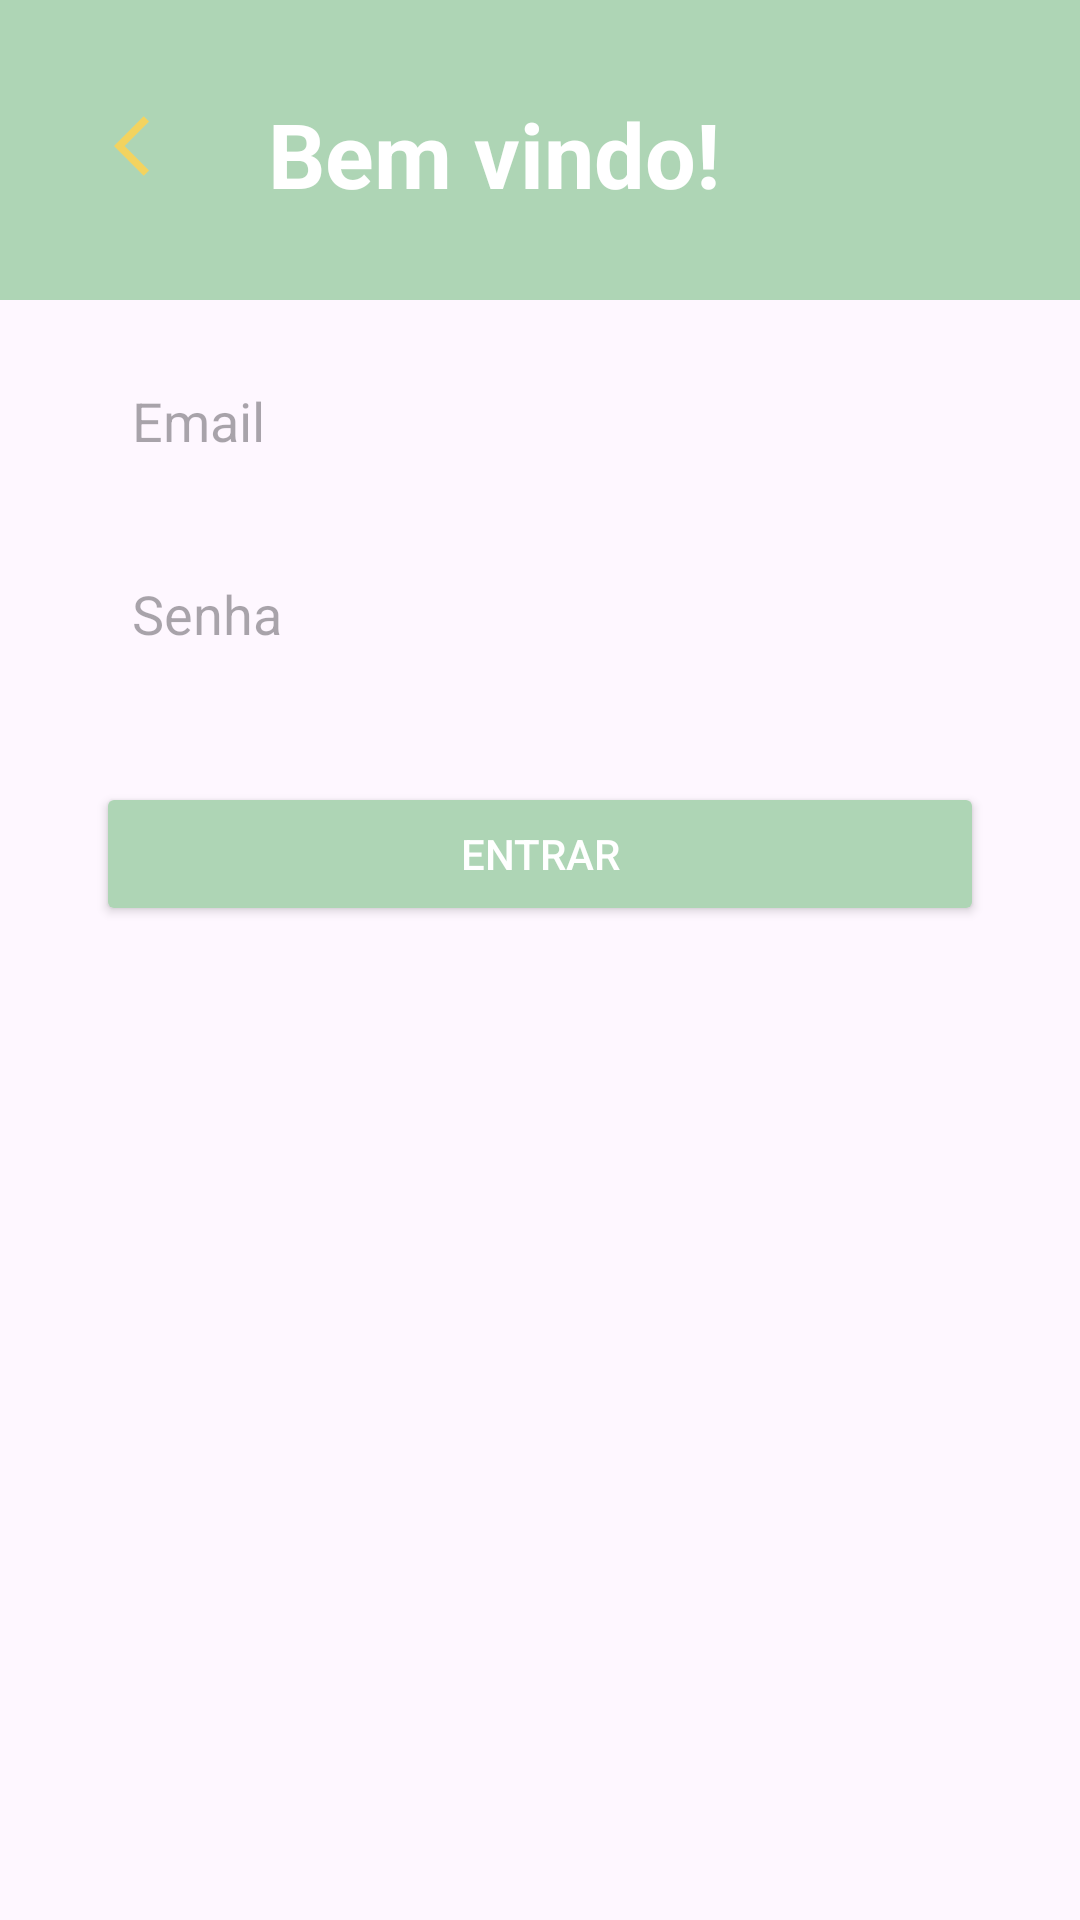

Icon click points for this 1080px x 1920px phone screenshot, format (x=x, y=y):
seta esquerda: (x=131, y=146)
